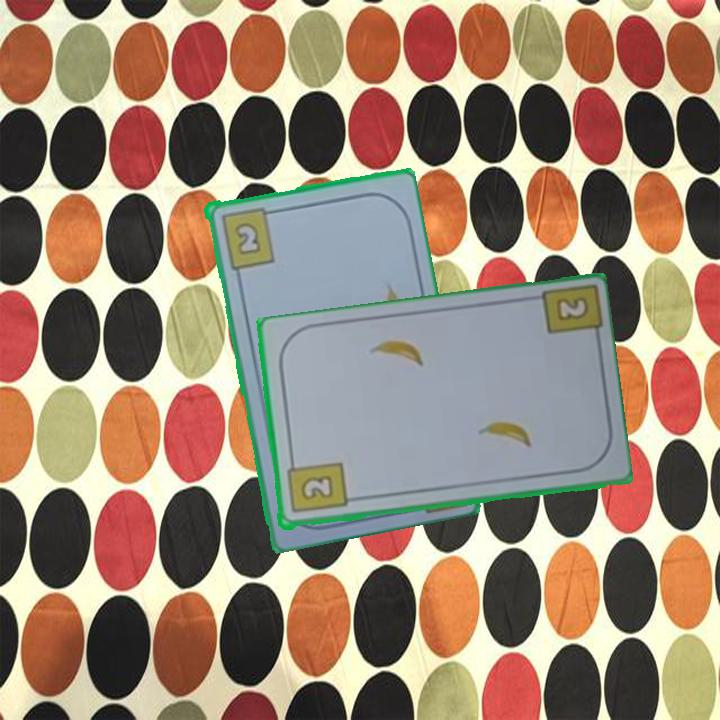2b: (216, 203, 278, 271), (283, 455, 349, 517), (552, 293, 592, 325)
